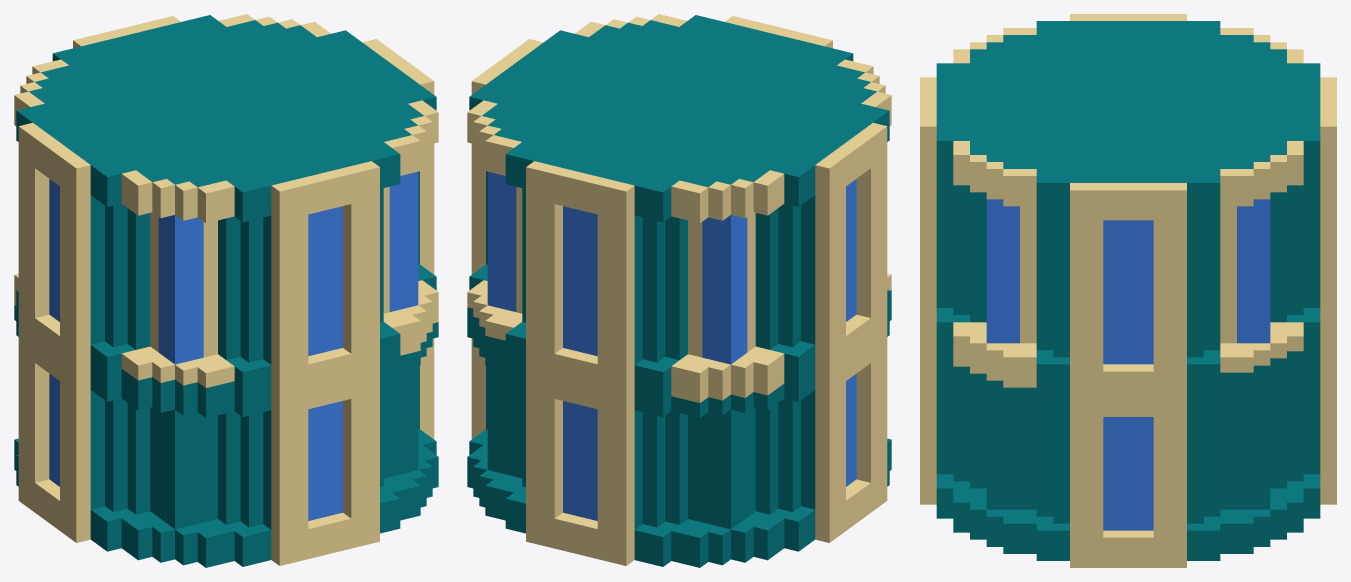
File: CylinderHouse.fbx
3 renders of one model, left to right at view 1: azimuth 30°, elevation 25°; view 2: azimuth 150°, elevation 25°; view 3: azimuth 270°, elevation 25°, orthographic.
Parts seen in each view (by area): view 1: Cylinder; view 2: Cylinder; view 3: Cylinder.
Boxes of the visible parts, box(x1,y1,x2,y2) form: Cylinder: box(14, 14, 438, 567); Cylinder: box(467, 14, 891, 567); Cylinder: box(920, 14, 1336, 567).
Size of the model in its own units: 25 by 25 by 25.
Materials: 1 (1 with a texture image).
